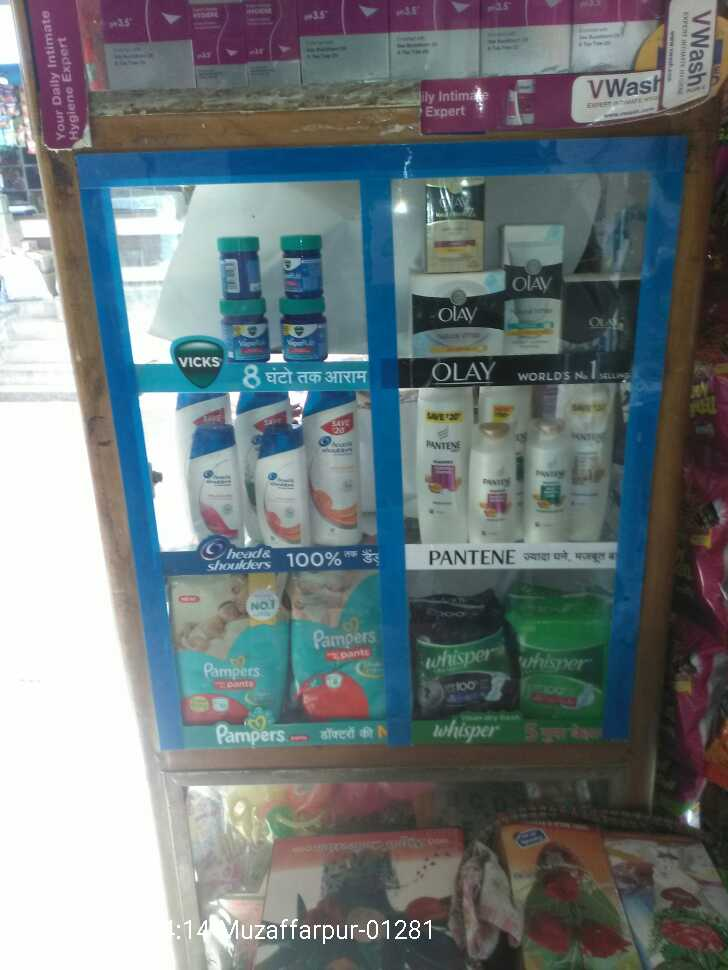vicks: (215, 219, 333, 363)
